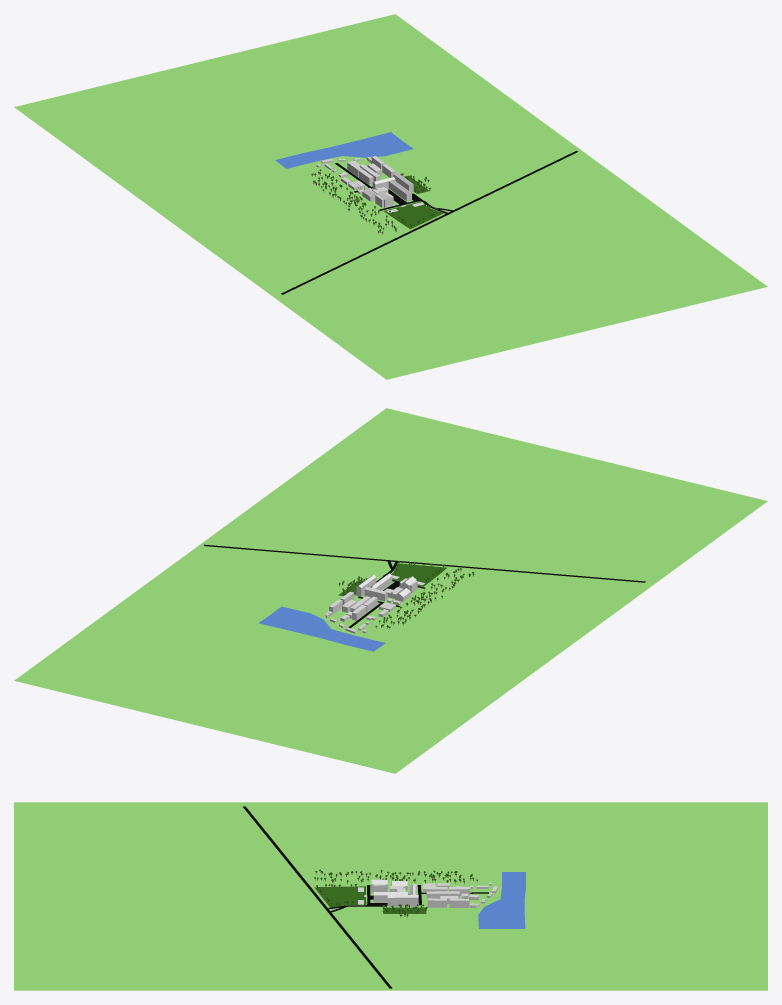
The model's file is School Model.glb.
The picture shows the model from 3 angles, top to bottom: view 1: azimuth 30°, elevation 25°; view 2: azimuth 150°, elevation 25°; view 3: azimuth 270°, elevation 25°; orthographic projection.
Visible parts, largest first — view 1: Base, Water, BezierCurve, Sport3; view 2: Base, Water, BezierCurve, Sport3; view 3: Base, Water, BezierCurve, Sport3, Plane.007.
Boxes of the visible parts, x1,y1,x2,y2 form: Base: (14, 14, 767, 379); Water: (275, 132, 412, 168); BezierCurve: (281, 151, 578, 294); Sport3: (383, 202, 443, 229); Base: (14, 408, 767, 773); Water: (259, 606, 385, 651); BezierCurve: (204, 544, 645, 628); Sport3: (391, 563, 446, 586); Base: (14, 802, 767, 990); Water: (478, 872, 525, 928); BezierCurve: (243, 806, 488, 988); Sport3: (314, 886, 366, 907); Plane.007: (387, 895, 418, 906).
Size of the model in its own units: 22.52 by 0.6078 by 38.09.
